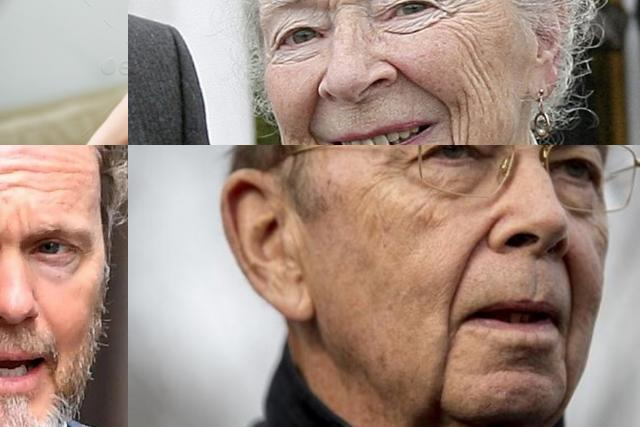crows_feet: (381, 146, 413, 178), (442, 0, 485, 22)
forehead: (0, 157, 29, 189), (38, 161, 82, 179), (36, 181, 68, 197)
frown_line: (321, 0, 354, 15)
gummy_smile: (446, 233, 479, 307), (399, 64, 441, 104), (558, 264, 580, 320), (300, 92, 322, 126)
masseter: (452, 33, 494, 91)
sad_smile: (446, 103, 476, 145), (434, 341, 460, 386), (555, 351, 575, 397), (306, 135, 335, 145)
